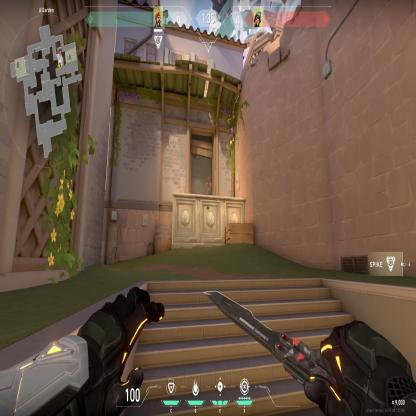enemy: (205, 173, 212, 194)
